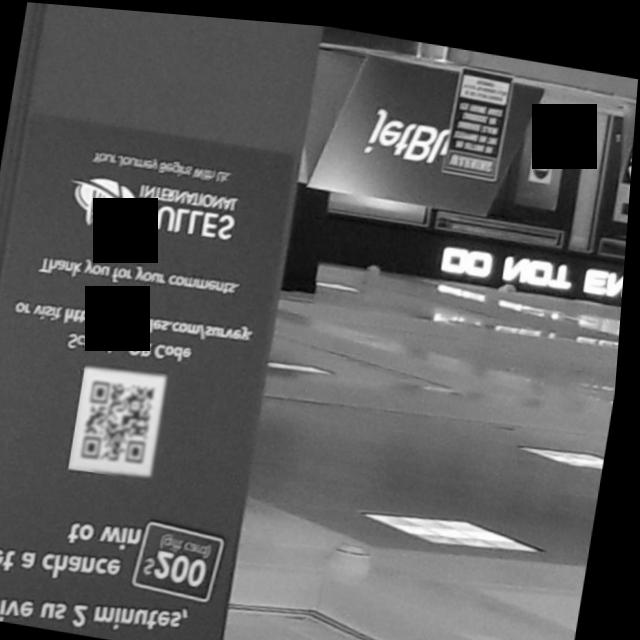QR_CODE: (75, 358, 181, 480)
